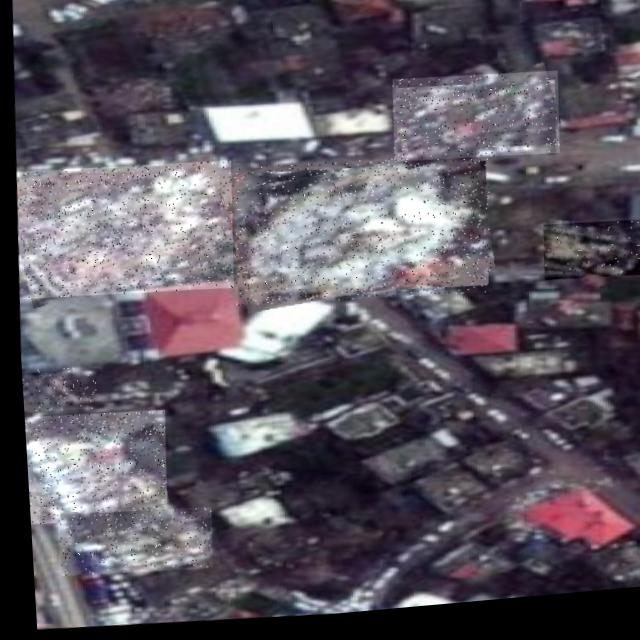Rubble: (223, 153, 491, 319), (9, 157, 233, 306), (19, 406, 163, 528), (387, 75, 559, 174), (48, 504, 206, 581), (537, 226, 639, 292), (17, 364, 91, 414)
